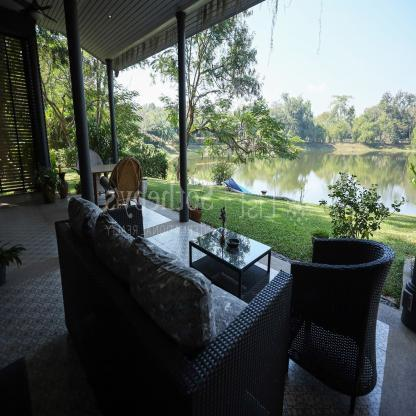chair: (288, 224, 398, 411), (100, 152, 149, 216)
sofa: (42, 197, 289, 416)
table: (187, 229, 274, 294)
